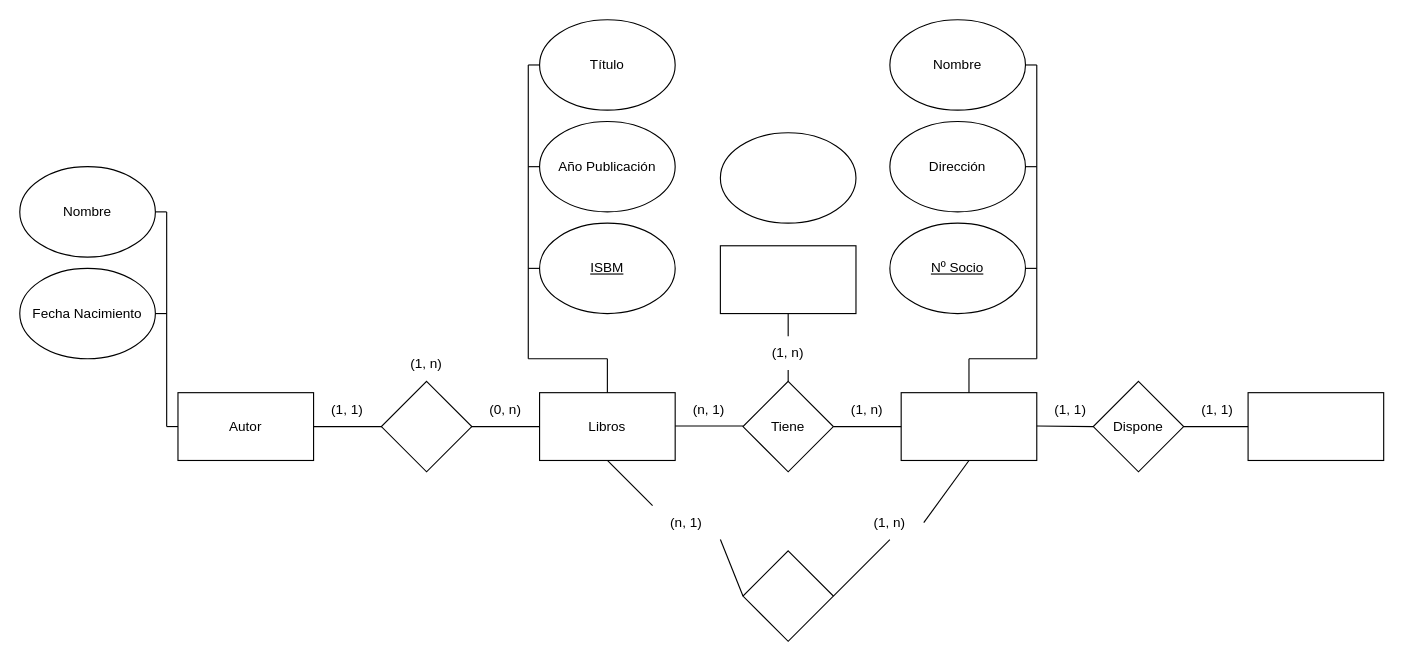
The diagram is 1403 pixels wide and 661 high, and some of its shapes have lost their labels. The centre of each missing label's shape, as x and y in pixels:
"Biblioteca" goes at pixel 787 279.
"Código Biblioteca" goes at pixel 787 177.
"Escribe" goes at pixel 426 426.
"Presta" goes at pixel 787 595.
"Préstamos" goes at pixel 1315 426.
"Socios" goes at pixel 968 426.
